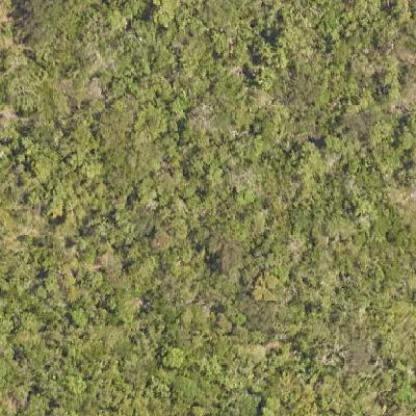tree-top: (245, 31, 294, 87), (158, 342, 187, 369)
